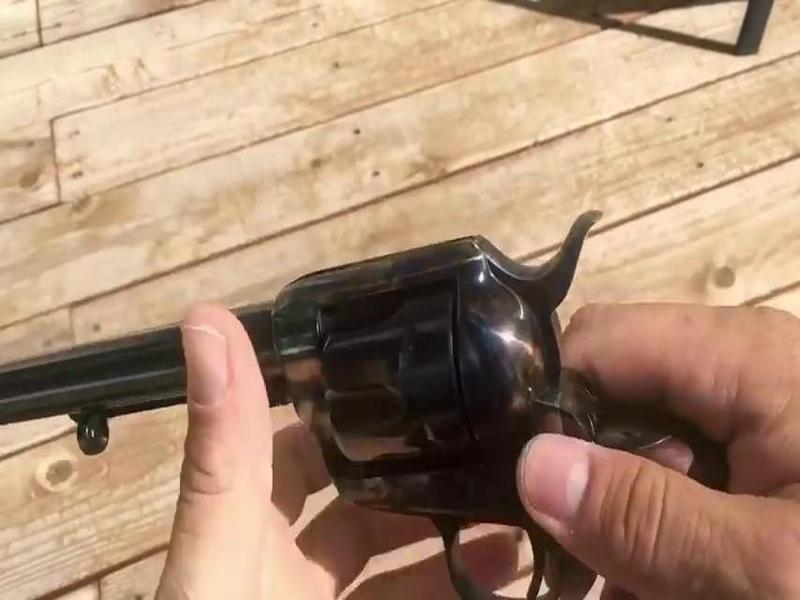Revolver: (6, 251, 702, 574)
